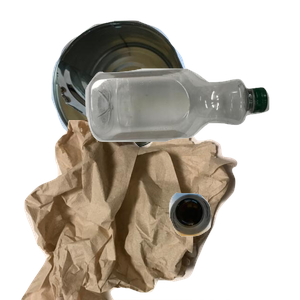glass: (166, 190, 300, 300)
metal: (49, 18, 229, 164)
plastic: (83, 66, 300, 201)
trash: (19, 120, 249, 300)
